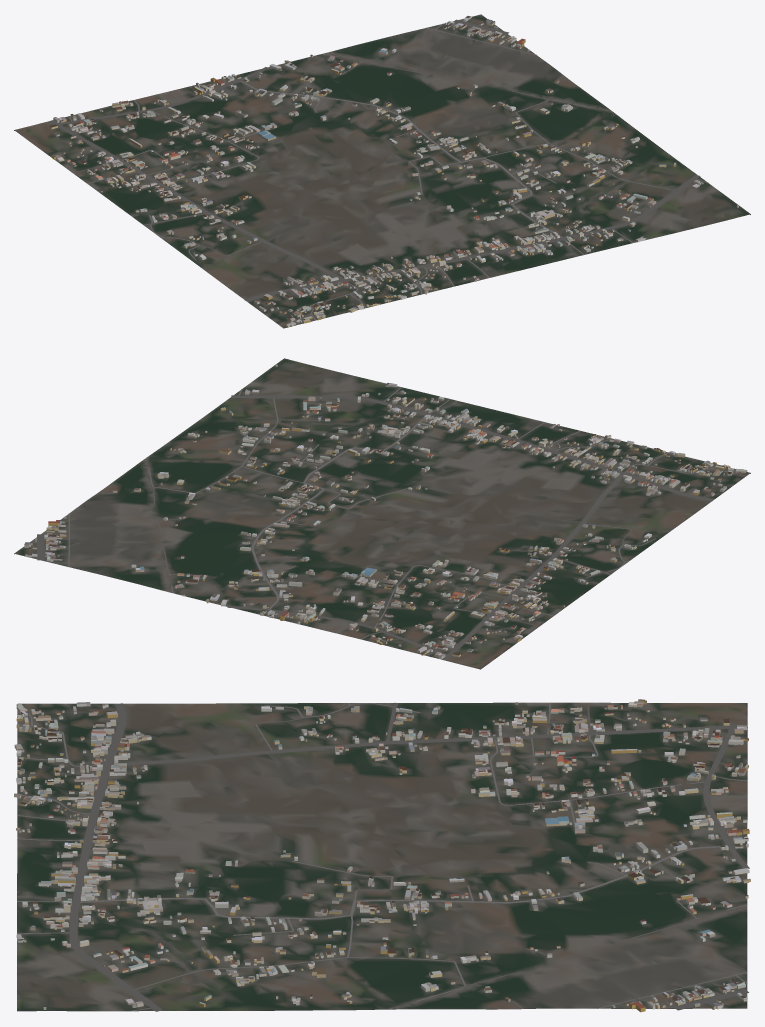
3 views of the same model, one above another, from view 1: azimuth 30°, elevation 25°; view 2: azimuth 150°, elevation 25°; view 3: azimuth 270°, elevation 25° (orthographic). The views are drawn at different scales.
Parts seen in each view (by area): view 1: ground, buildings, roads; view 2: ground, buildings, roads; view 3: ground, buildings, roads.
Boxes of the visible parts, box(x1,y1,x2,y2) form: ground: box(14, 14, 750, 328); buildings: box(49, 16, 738, 327); roads: box(48, 19, 708, 321); ground: box(14, 358, 750, 669); buildings: box(24, 364, 747, 659); roads: box(37, 387, 727, 660); ground: box(17, 702, 747, 1011); buildings: box(14, 699, 750, 1012); roads: box(17, 702, 749, 1011).
Size of the model in its own units: 1416 by 17.75 by 1413.
